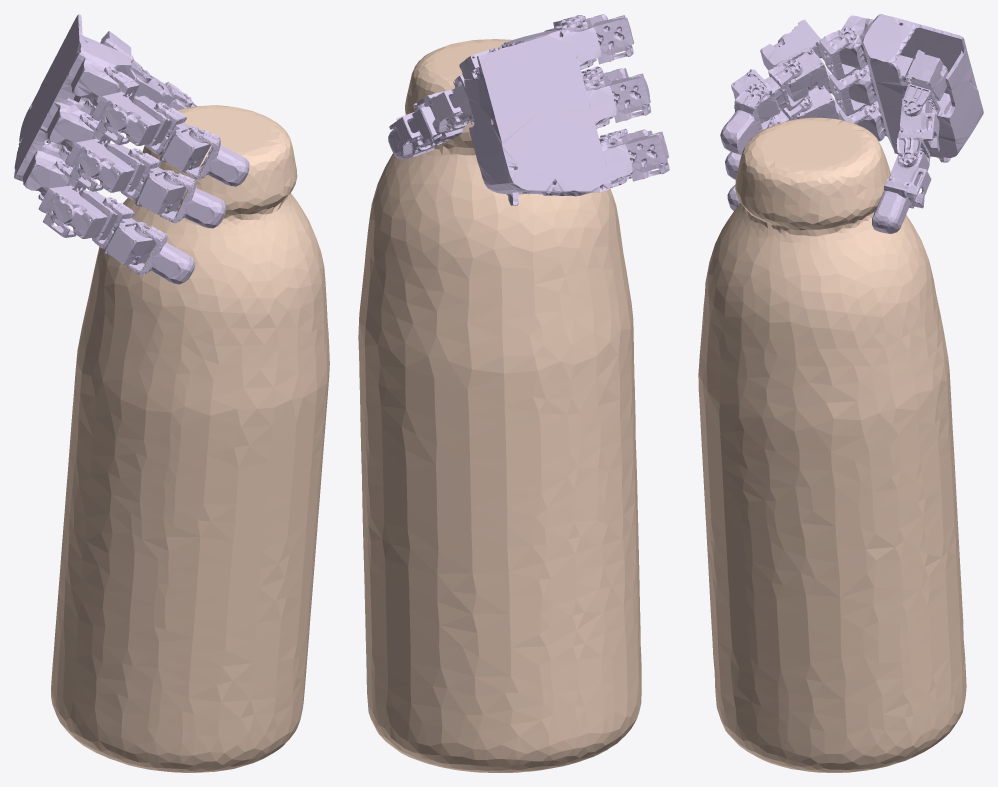
The model's file is fc419e31ccbaba-final.glb.
3 views of the same model, side by side, from view 1: azimuth 30°, elevation 25°; view 2: azimuth 150°, elevation 25°; view 3: azimuth 270°, elevation 25° (orthographic). The views are drawn at different scales.
Parts seen in each view (by area): view 1: world, LEAP_hand; view 2: world, LEAP_hand; view 3: world, LEAP_hand.
Part boxes in pixels (box(x1,y1,x2,y2)): world: box(51, 105, 329, 772); LEAP_hand: box(14, 14, 249, 284); world: box(358, 39, 641, 772); LEAP_hand: box(388, 14, 669, 205); world: box(698, 117, 966, 772); LEAP_hand: box(720, 14, 983, 233).
Bounding box in the file's own units: 0.2513 × 0.613 × 0.2321.
